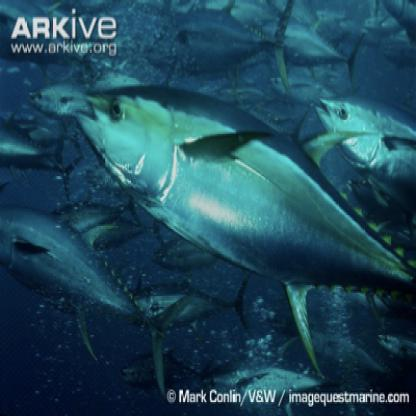Scombridae -Tunas-: (70, 77, 416, 380)
